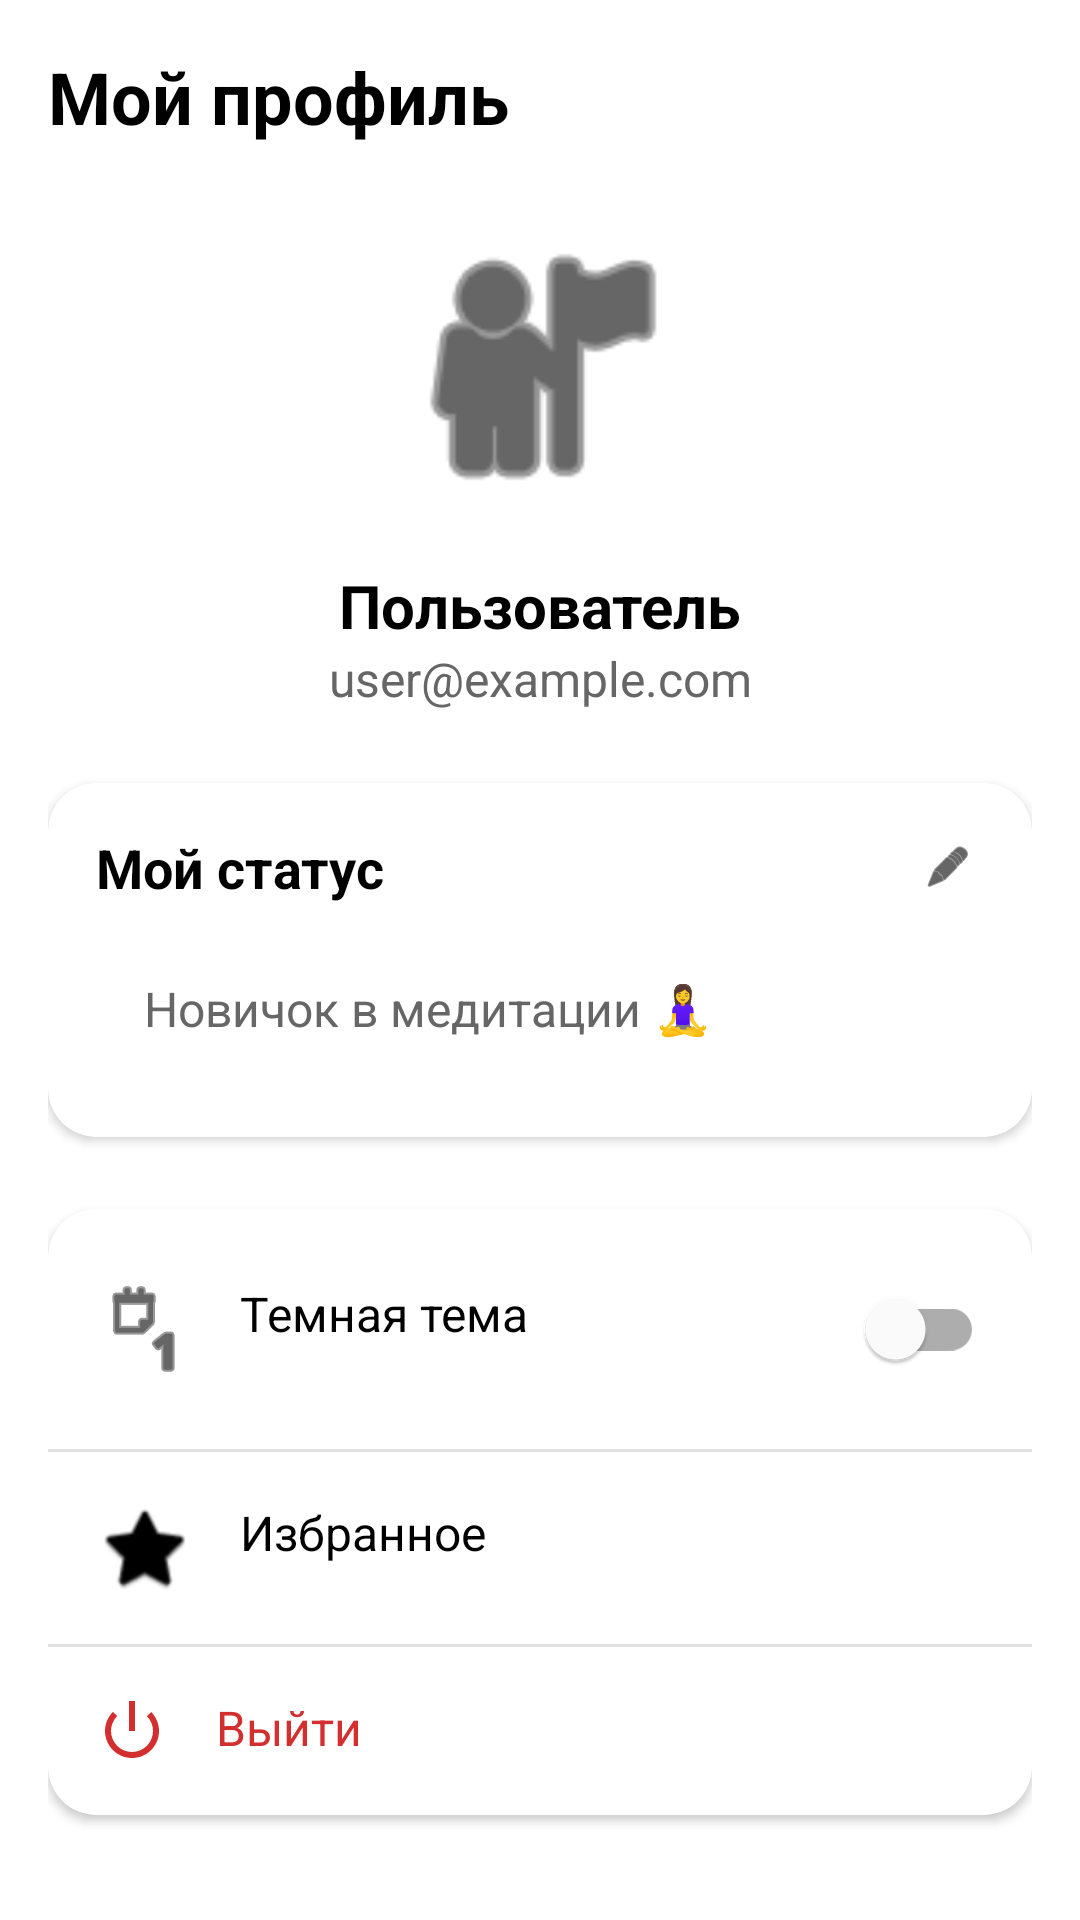

Icons on this 1080 × 1920 Android screen, each with the point to tap as [x,y]:
Profile picture: [543,367]
Редактировать статус: [947,866]
